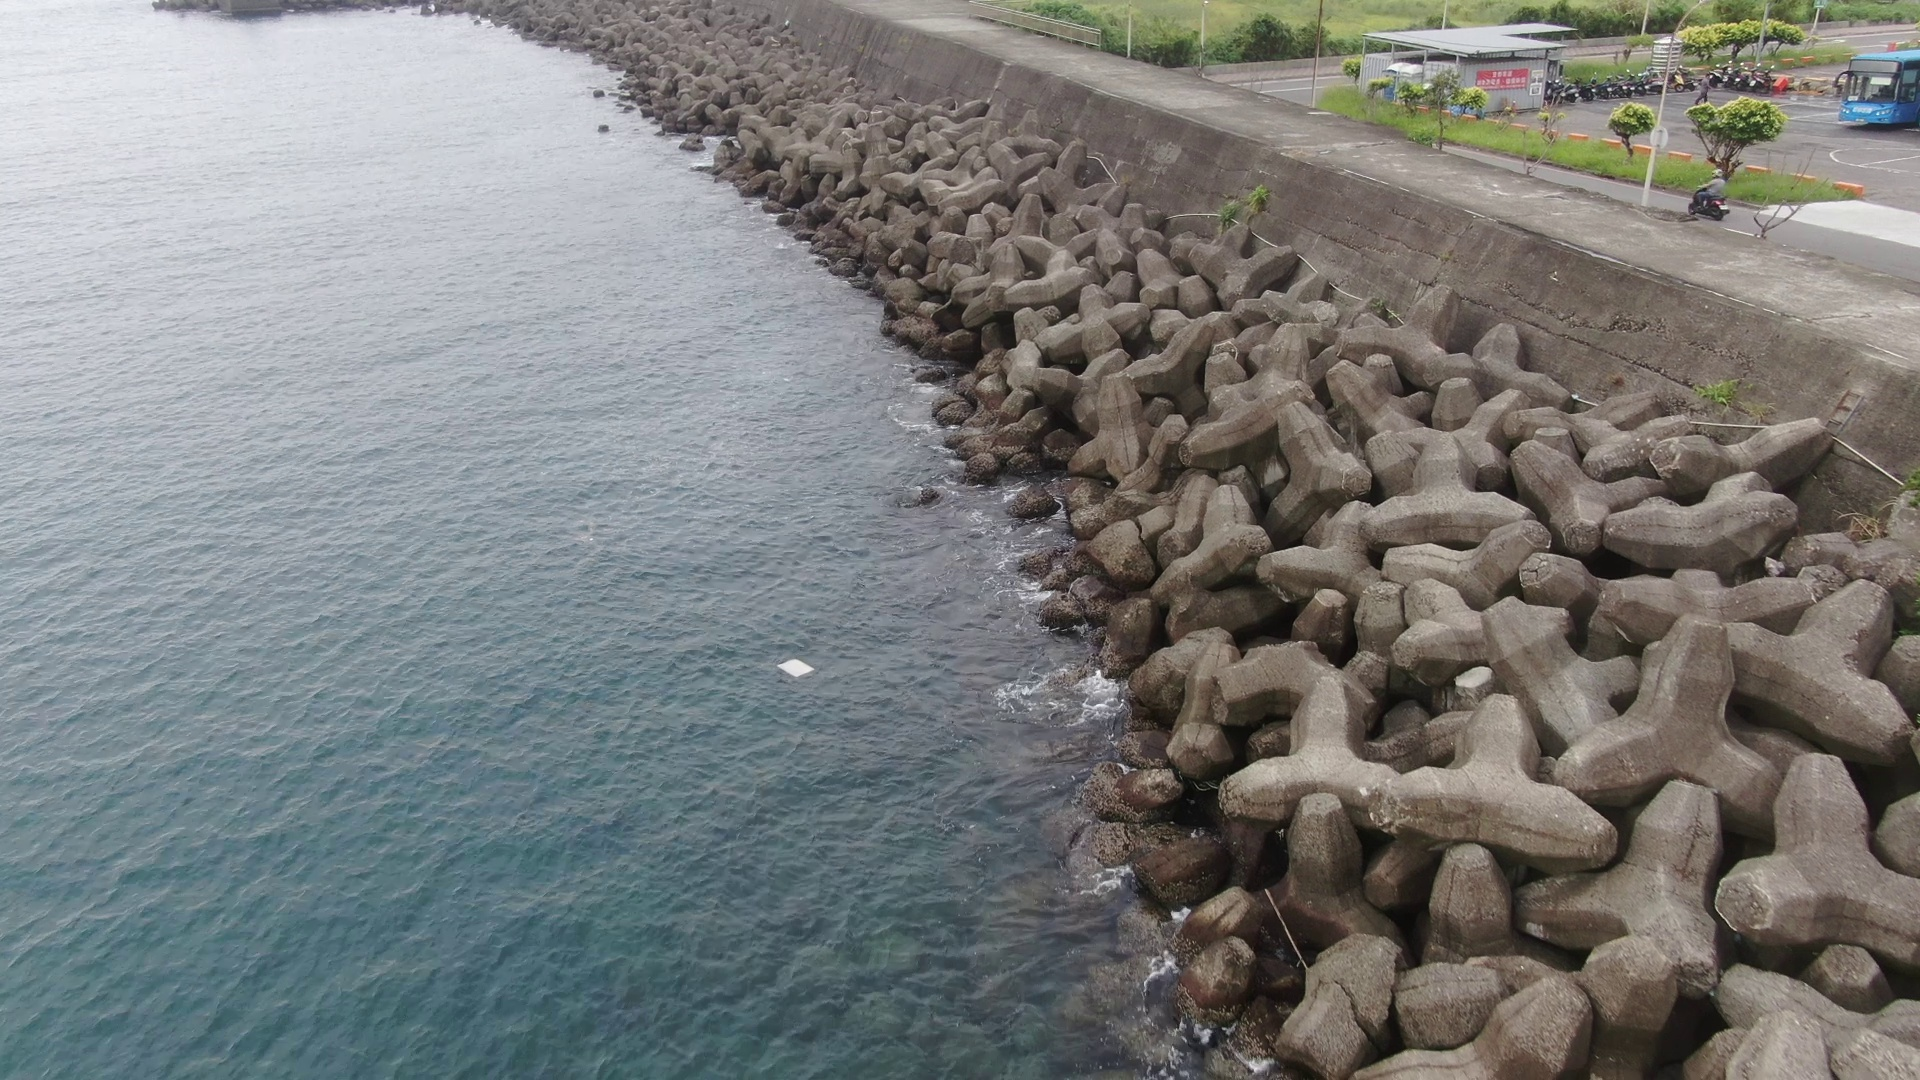garbage: (782, 659, 822, 680)
